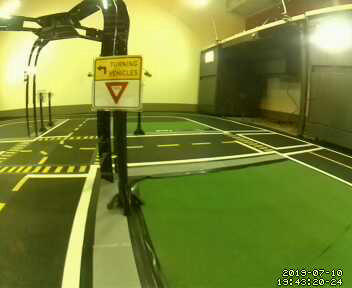Turn Yield: (90, 54, 143, 113)
